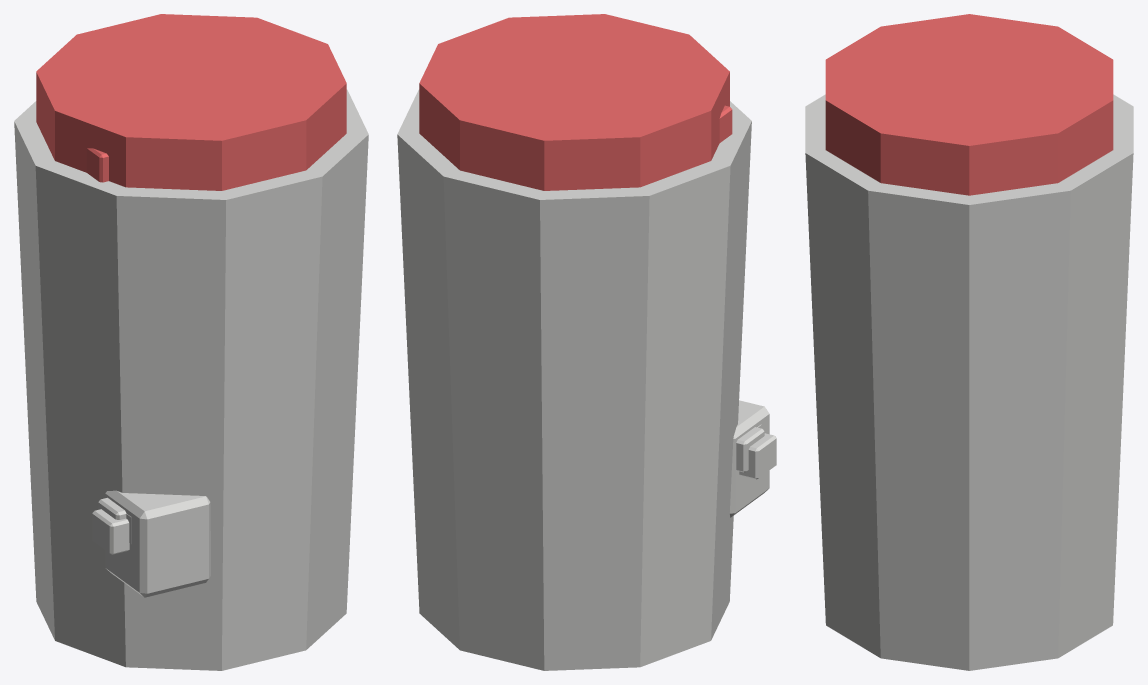
The model's file is b16_ice_cream_cup_with_spoon.glb.
3 renders of one model, left to right at view 1: azimuth 30°, elevation 25°; view 2: azimuth 150°, elevation 25°; view 3: azimuth 270°, elevation 25°, orthographic.
Parts seen in each view (by area): view 1: b16_ice_cream_cup_with_spoon; view 2: b16_ice_cream_cup_with_spoon; view 3: b16_ice_cream_cup_with_spoon.
Part boxes in pixels (box(x1,y1,x2,y2)): b16_ice_cream_cup_with_spoon: box(14, 14, 368, 670); b16_ice_cream_cup_with_spoon: box(397, 14, 776, 670); b16_ice_cream_cup_with_spoon: box(805, 14, 1133, 670).
Bounding box in the file's own units: 0.088 × 0.143 × 0.081.
